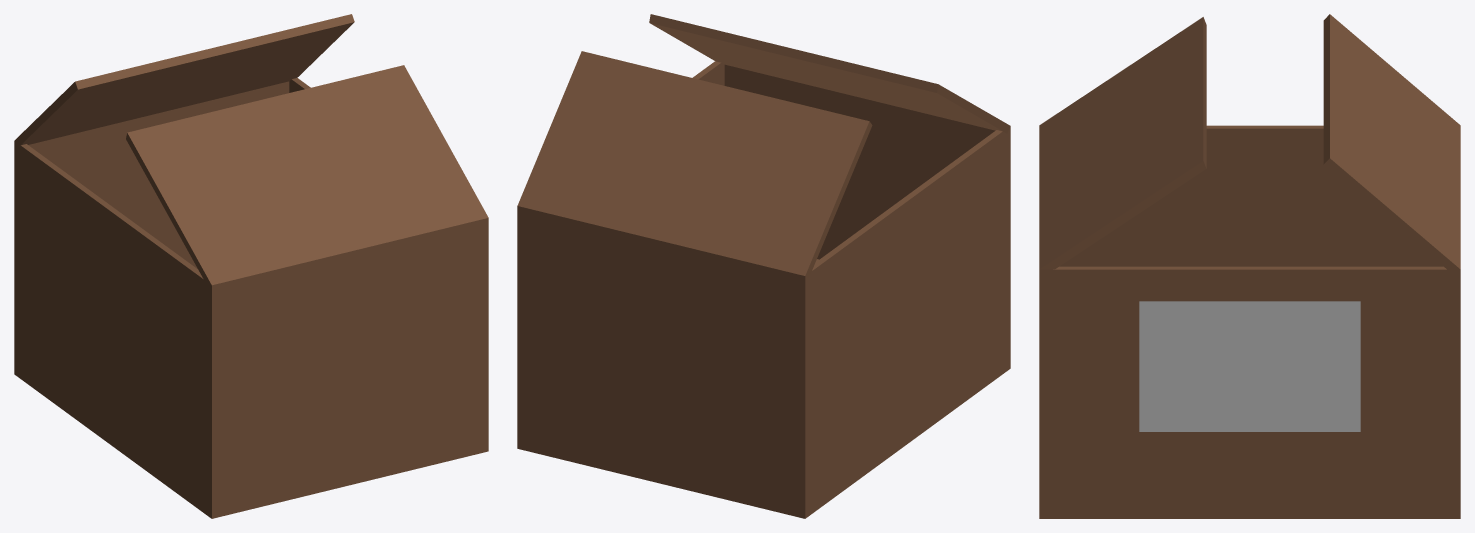
Rendered from caja_chica.fbx.
3 renders of one model, left to right at view 1: azimuth 30°, elevation 25°; view 2: azimuth 150°, elevation 25°; view 3: azimuth 270°, elevation 25°, orthographic. The views are drawn at different scales.
Visible parts, largest first — view 1: caja_b.001; view 2: caja_b.001; view 3: caja_b.001.
Boxes of the visible parts, bbox=[...] form: caja_b.001: bbox=[14, 14, 488, 518]; caja_b.001: bbox=[517, 14, 1010, 518]; caja_b.001: bbox=[1039, 14, 1460, 518].
Bounding box in the file's own units: 0.2912 × 0.3305 × 0.3503.
